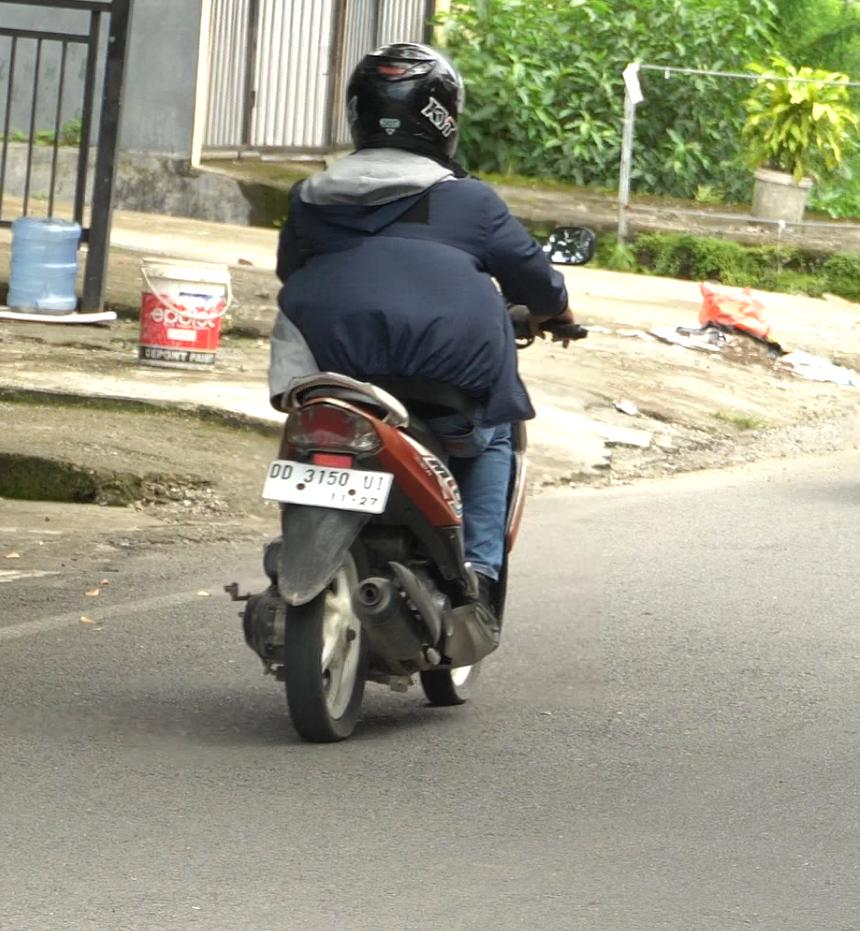number-plate: (266, 451, 396, 517)
